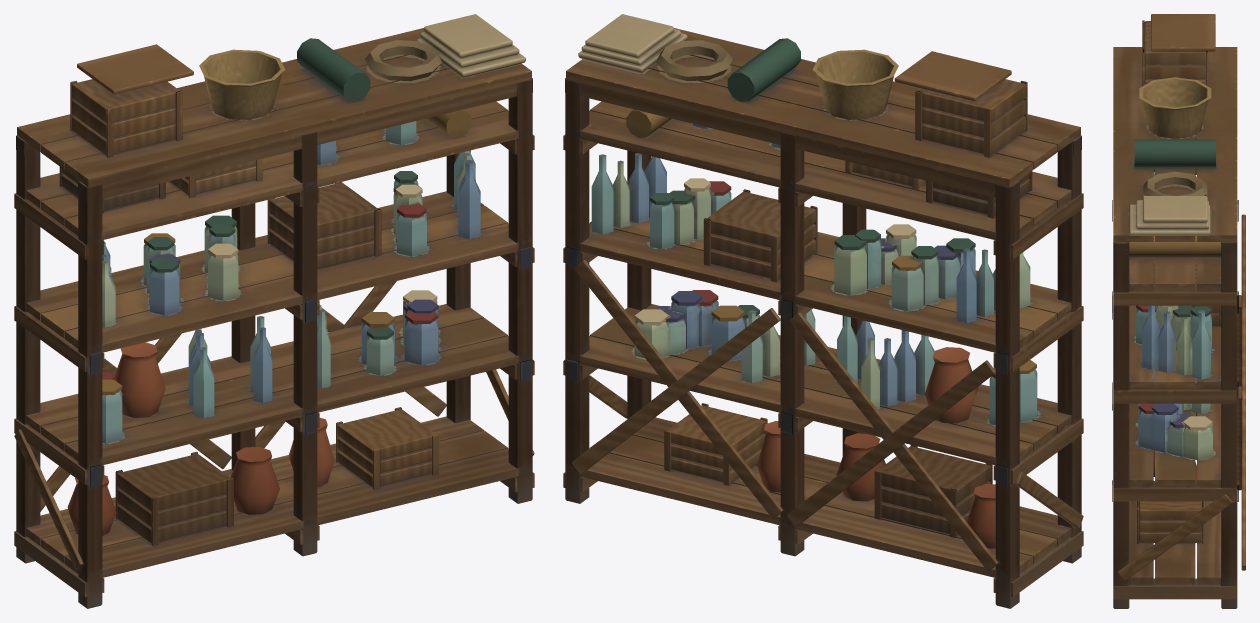
File: rack-long.hq.glb
3 views of the same model, side by side, from view 1: azimuth 30°, elevation 25°; view 2: azimuth 150°, elevation 25°; view 3: azimuth 270°, elevation 25° (orthographic). The views are drawn at different scales.
Parts seen in each view (by area): view 1: rack-long; view 2: rack-long; view 3: rack-long.
Boxes of the visible parts, box(x1,y1,x2,y2) form: rack-long: box(14, 14, 534, 608); rack-long: box(563, 14, 1083, 608); rack-long: box(1112, 14, 1245, 608).
Bounding box in the file's own units: 1.69 × 1.75 × 0.4965.
Materials: 1 (1 with a texture image).
